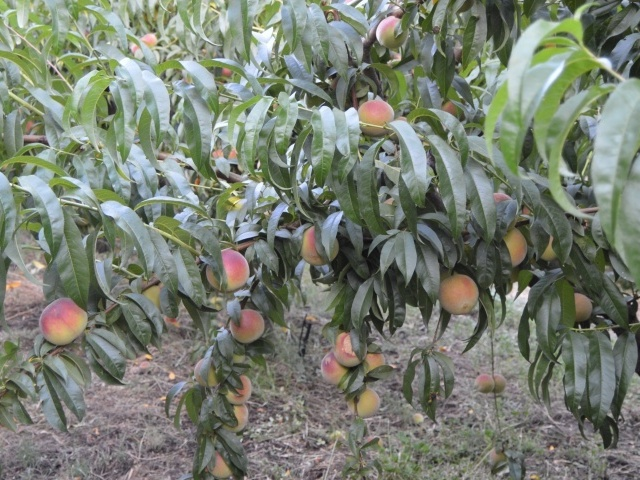peach: (35, 294, 90, 350), (200, 244, 252, 296), (435, 270, 481, 319), (297, 222, 342, 268), (225, 305, 267, 347), (353, 98, 396, 138), (496, 224, 533, 269), (344, 381, 383, 422), (329, 329, 368, 367), (375, 14, 413, 53), (190, 356, 227, 392), (315, 351, 352, 387), (220, 372, 256, 406), (217, 401, 253, 435), (203, 448, 237, 479), (567, 291, 598, 324), (359, 345, 391, 375), (471, 370, 497, 395), (138, 30, 164, 54), (488, 370, 510, 396)
